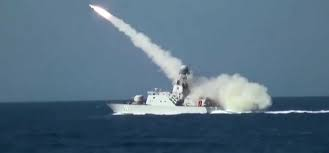tau_muctieu: (105, 67, 233, 116)
ten_lua: (87, 3, 99, 14)
